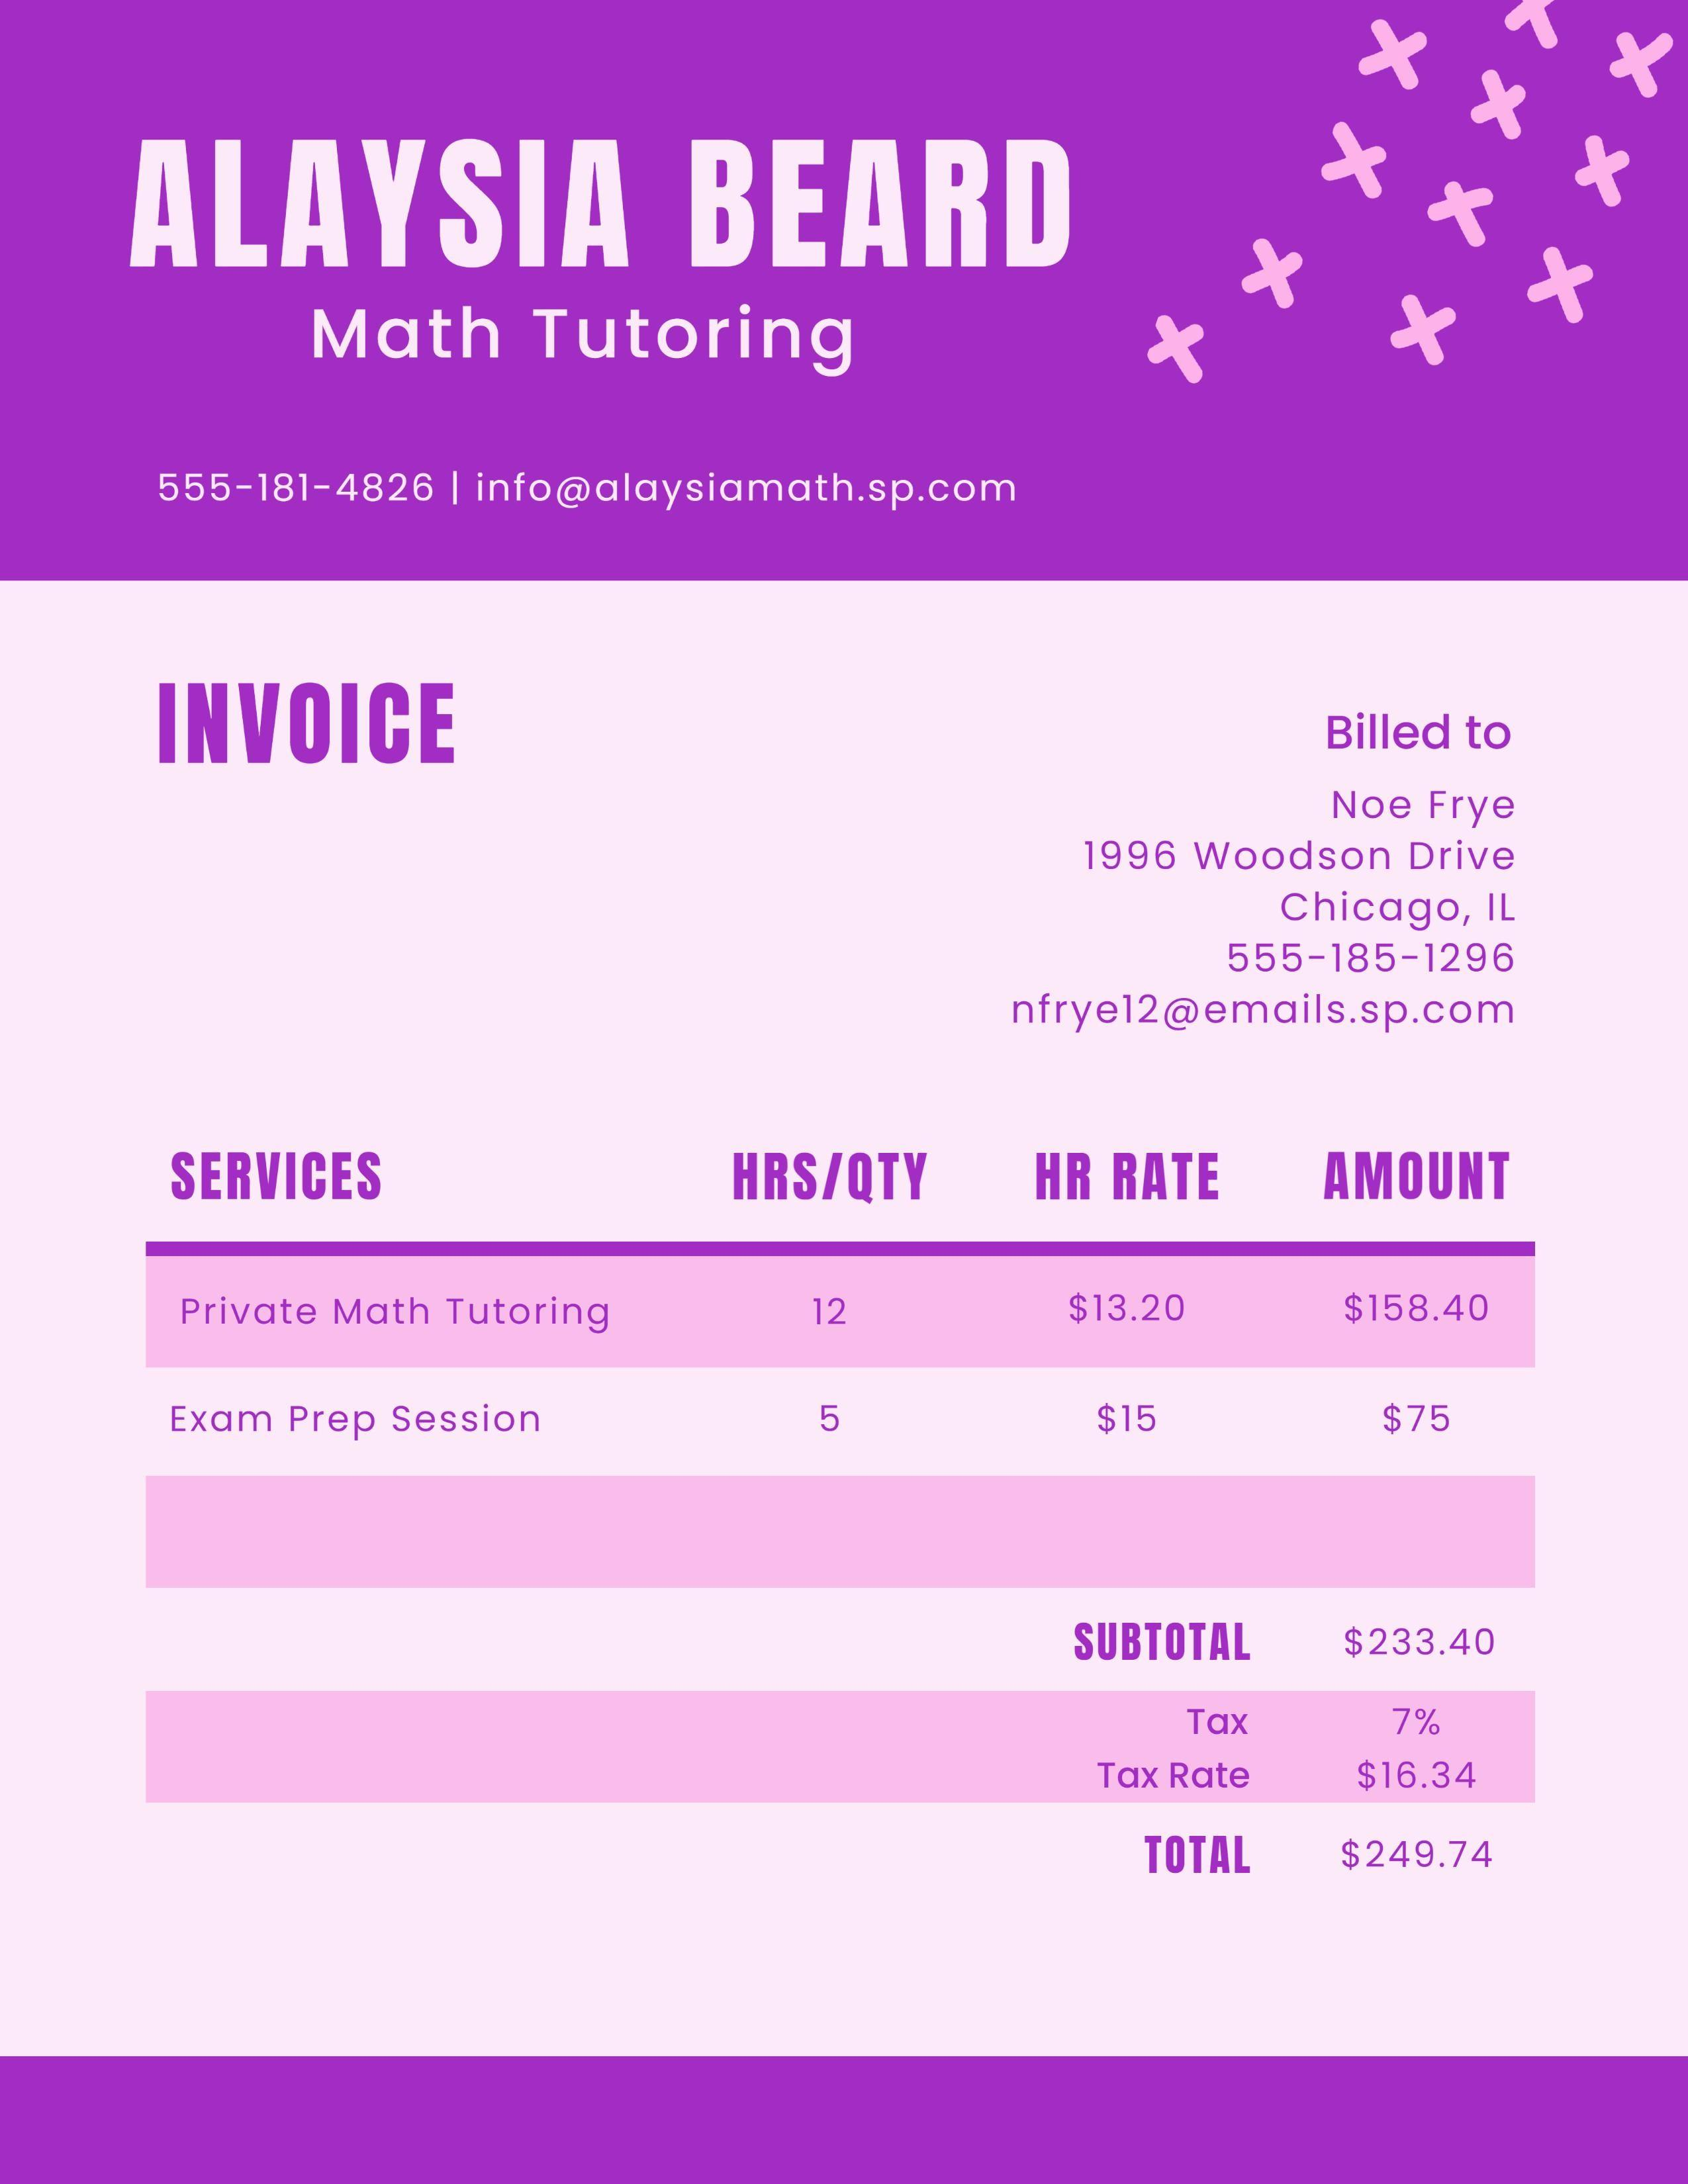ROI: (149, 1145, 1536, 1457), (112, 94, 1092, 386), (1002, 702, 1528, 1032), (1060, 1590, 1512, 1881)
